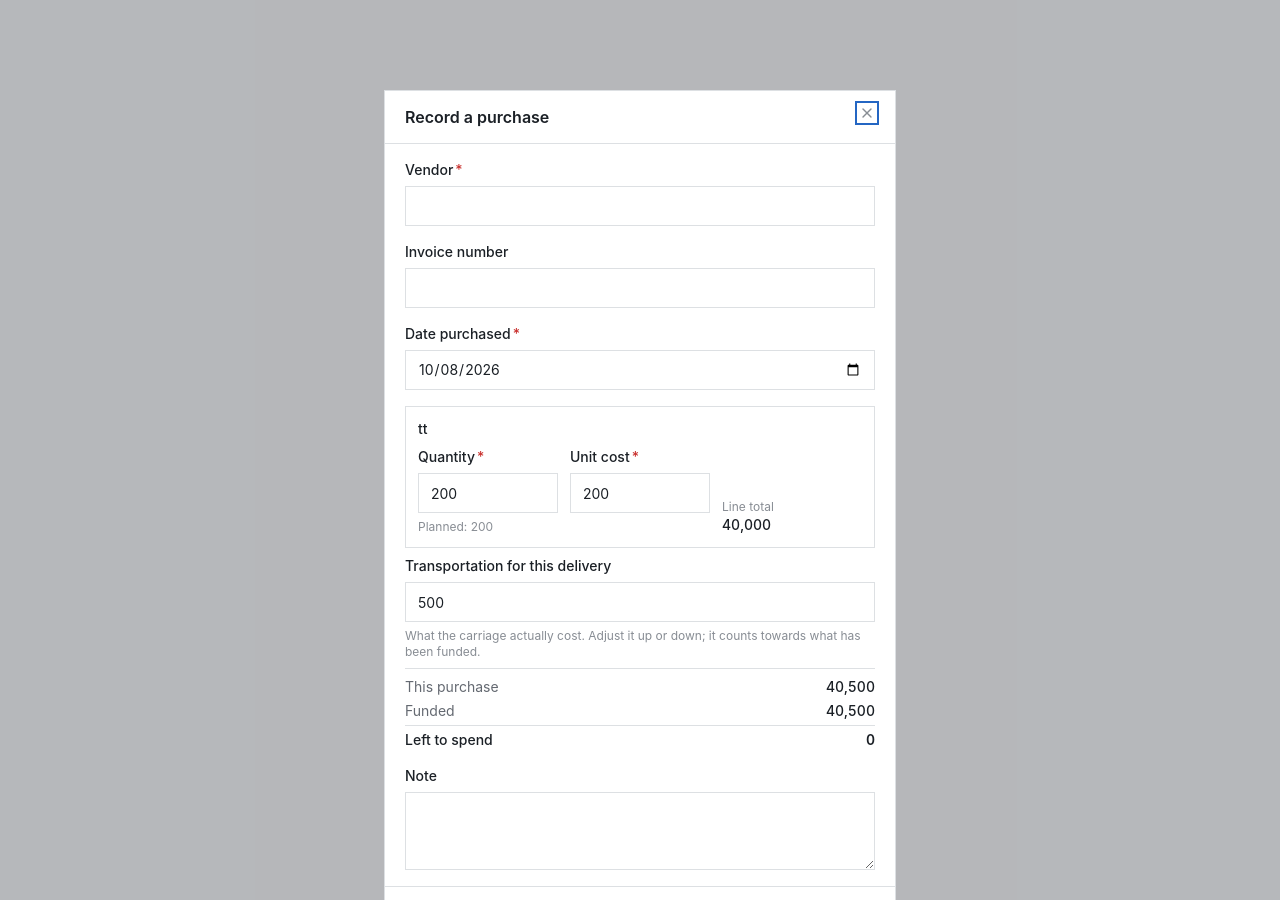
Test case: recording a purchase › marks the line whose unit cost is missing, rather than describing the array
The width and height of the screenshot is (1280, 900).
In the field labelled "Vendor": (640, 206) [405,186,875,226], type "Techshop BD"
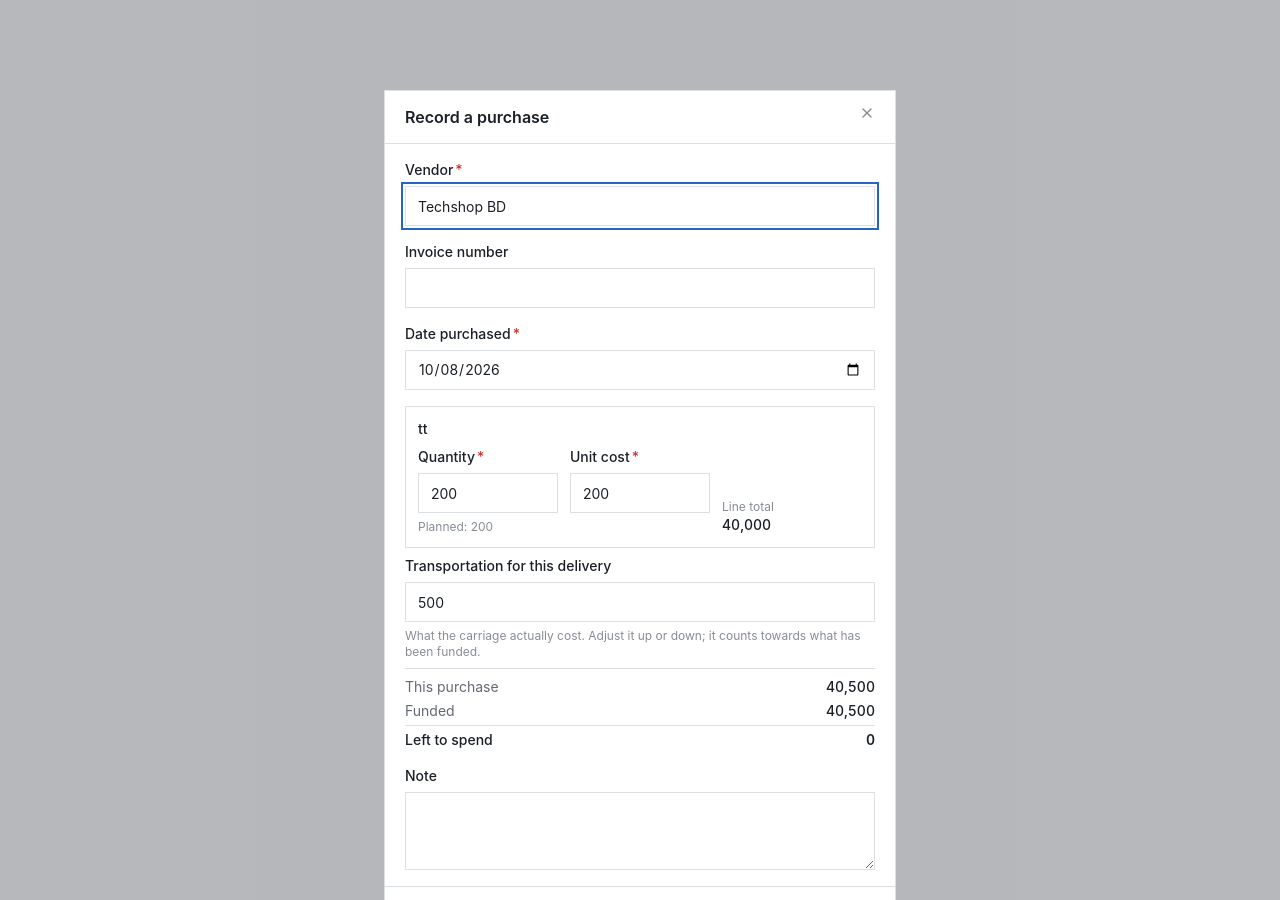
Note: The form opens on the agreed unit cost, so an empty line is one the IM cleared.
Clear the number field labelled "Unit cost": (640, 493) [570,473,710,513]
(page scrolled)
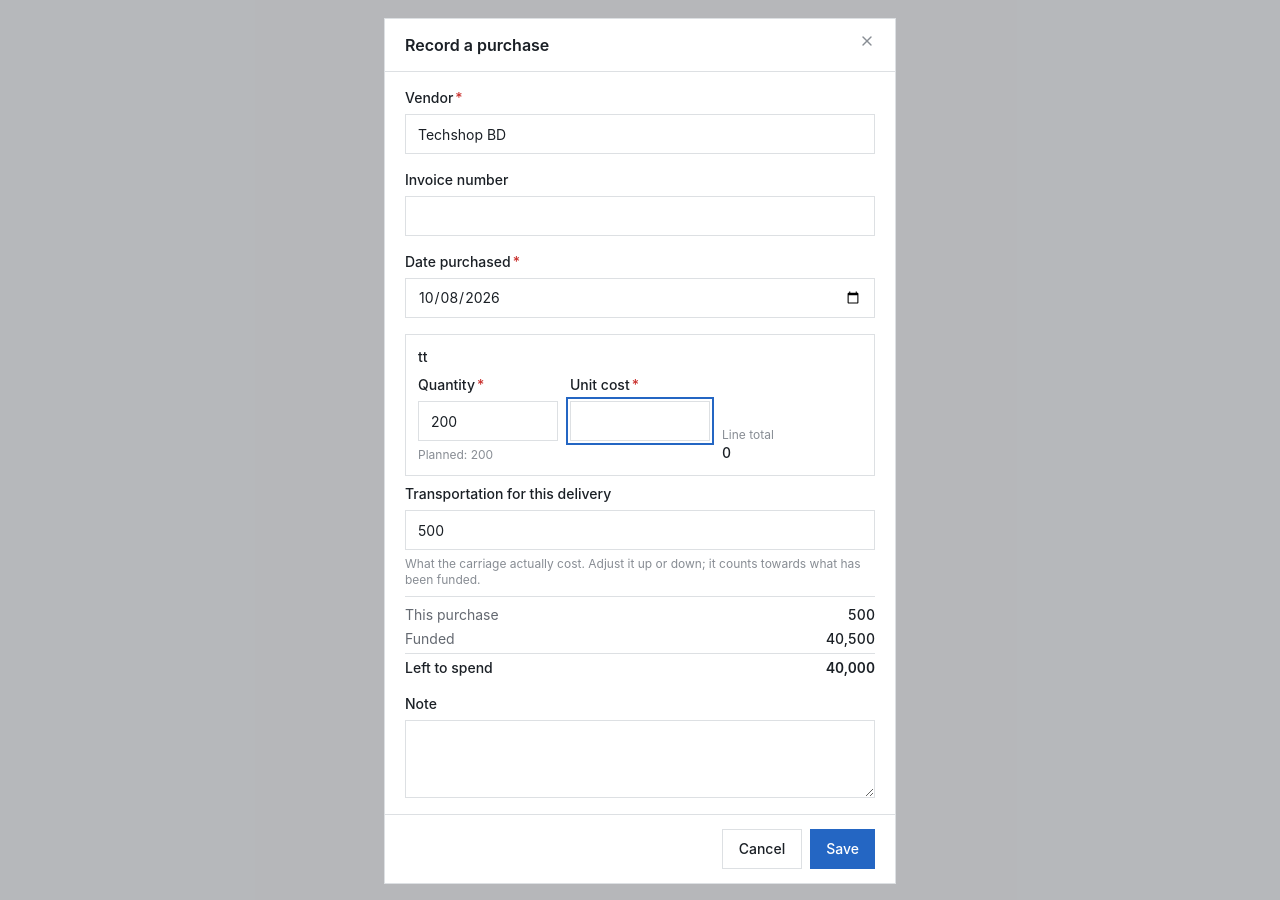
Click the button "Save": (843, 849) [810,829,875,869]
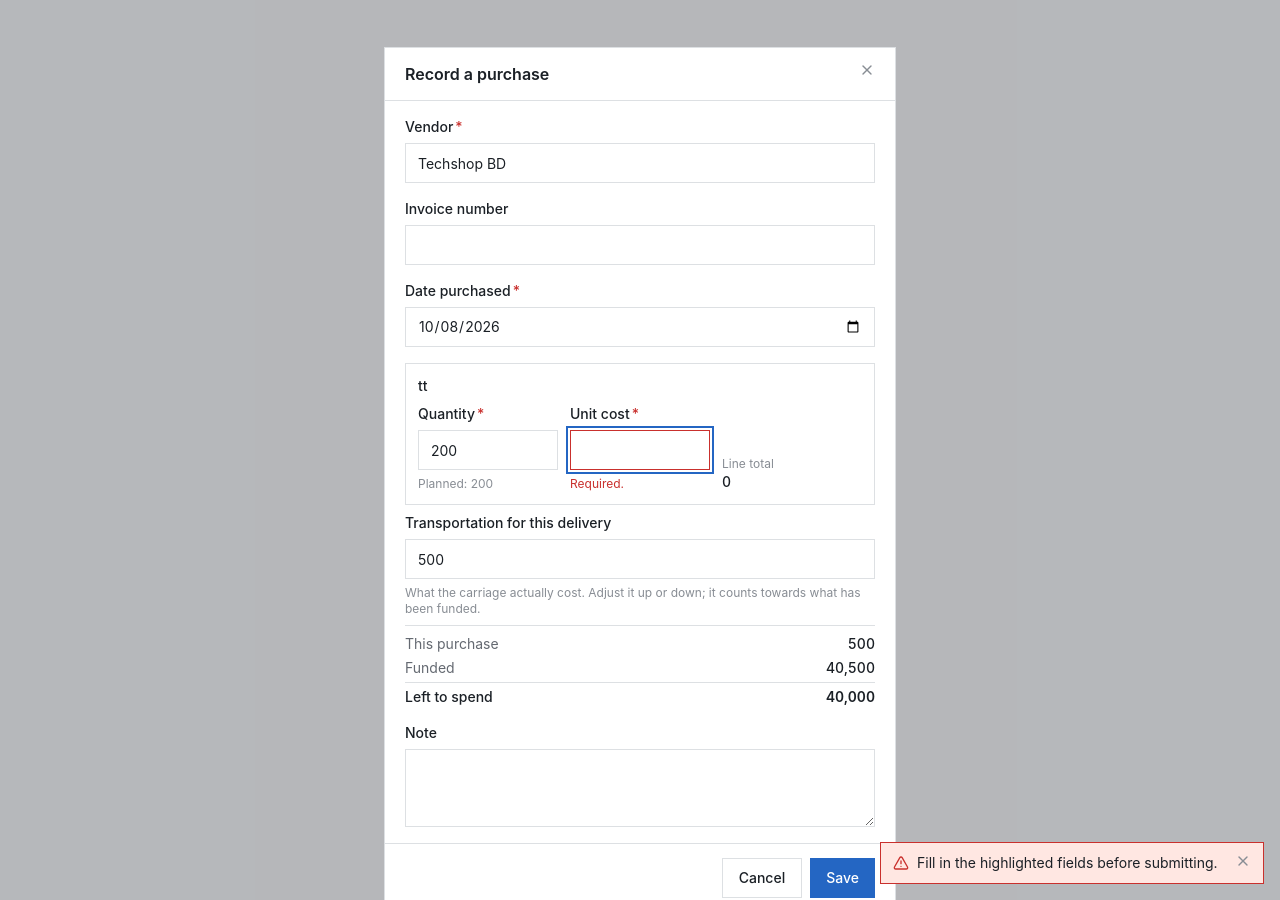
Now the text "Required." is shown, box [570,476,624,491]
